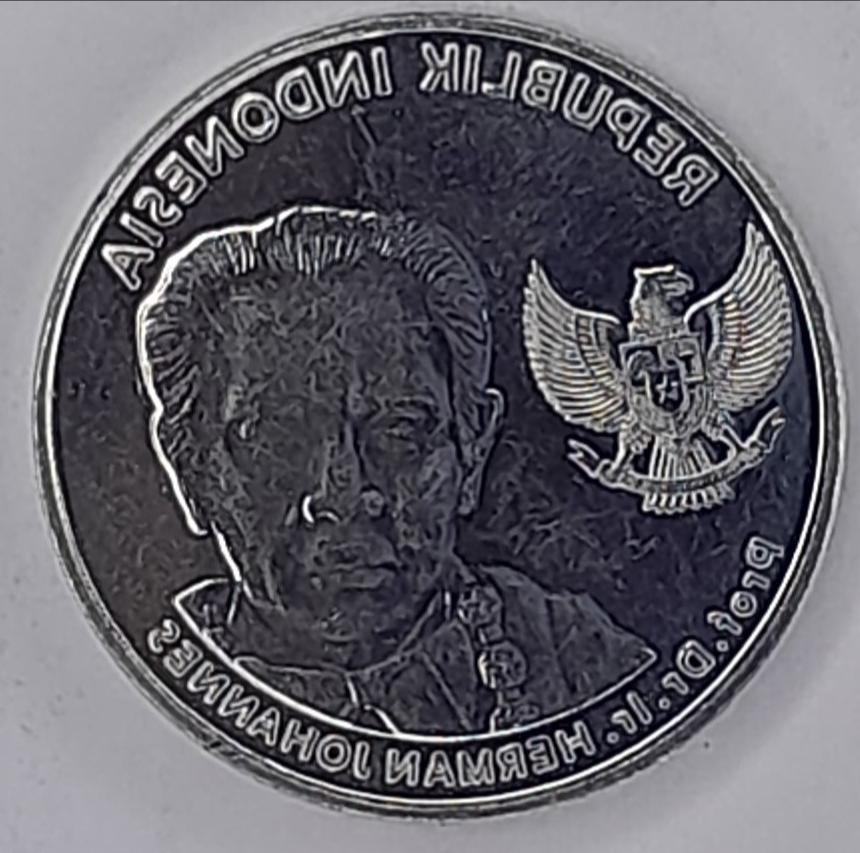coin_100_e2016: (26, 4, 853, 825)
